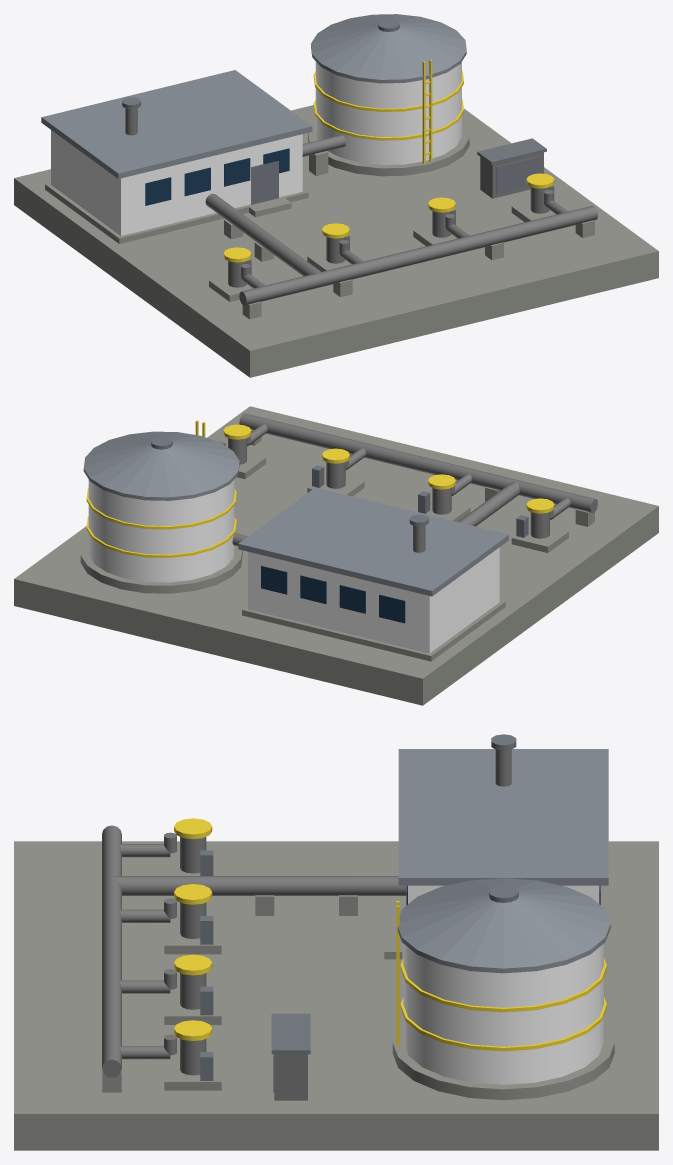
The model's file is top-prebuilt.fbx.
3 renders of one model, top to bottom at view 1: azimuth 30°, elevation 25°; view 2: azimuth 150°, elevation 25°; view 3: azimuth 270°, elevation 25°, orthographic. The views are drawn at different scales.
Parts seen in each view (by area): view 1: a1049_Prebuilt; view 2: a1049_Prebuilt; view 3: a1049_Prebuilt.
Boxes of the visible parts, box(x1,y1,x2,y2) form: a1049_Prebuilt: box(14, 14, 658, 377); a1049_Prebuilt: box(14, 406, 658, 705); a1049_Prebuilt: box(14, 734, 658, 1150).
Size of the model in its own units: 27 by 9.15 by 27.
